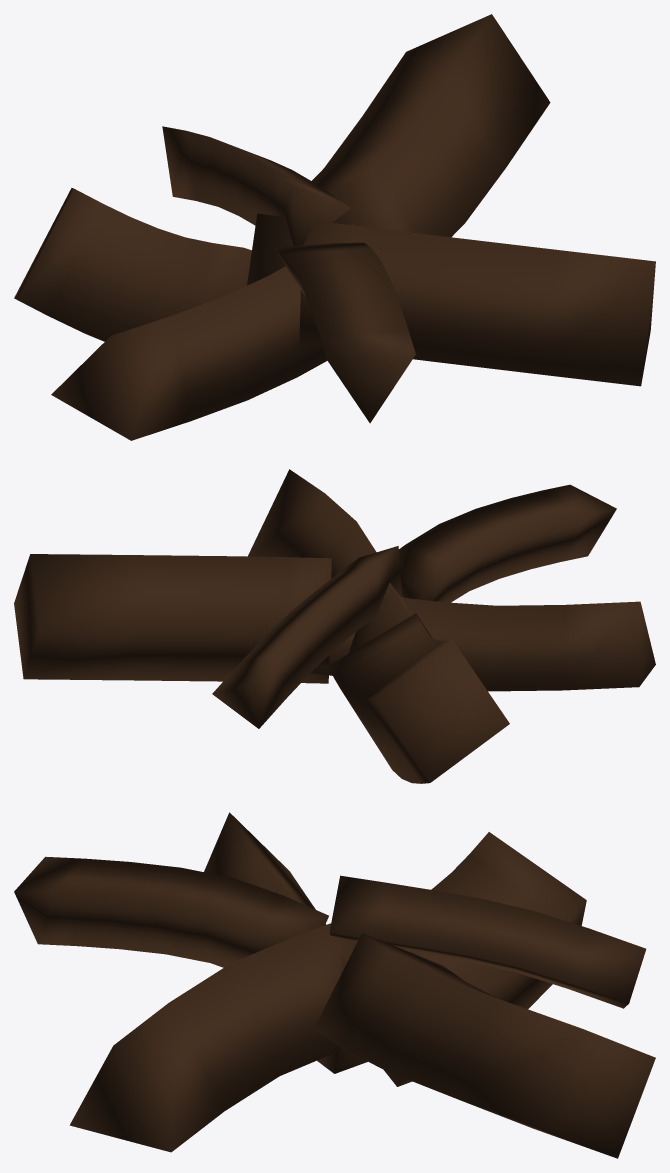
The model's file is bonfire1.obj.
3 views of the same model, one above another, from view 1: azimuth 30°, elevation 25°; view 2: azimuth 150°, elevation 25°; view 3: azimuth 270°, elevation 25° (orthographic). The views are drawn at different scales.
Visible parts, largest first — view 1: Wick4, Wick6, Wick2, Wick3, Wick1, Wick5; view 2: Wick6, Wick2, Wick3, Wick1, Wick5, Wick4; view 3: Wick6, Wick4, Wick1, Wick5, Wick3, Wick2.
Part boxes in pixels (x1,y1,x2,y2): Wick4: (247,213,655,386); Wick6: (312,14,550,237); Wick2: (51,223,354,440); Wick3: (14,188,251,341); Wick1: (274,242,415,423); Wick5: (162,126,350,246); Wick6: (14,554,331,683); Wick2: (310,597,655,691); Wick3: (328,613,509,783); Wick1: (399,484,616,602); Wick5: (212,546,401,728); Wick4: (247,469,411,653); Wick6: (314,933,655,1158); Wick4: (69,923,357,1152); Wick1: (14,856,328,967); Wick5: (329,875,646,1008); Wick3: (384,832,586,1086); Wick2: (204,812,367,1073).
Size of the model in its own units: 0.7006 by 0.2331 by 0.6306.
